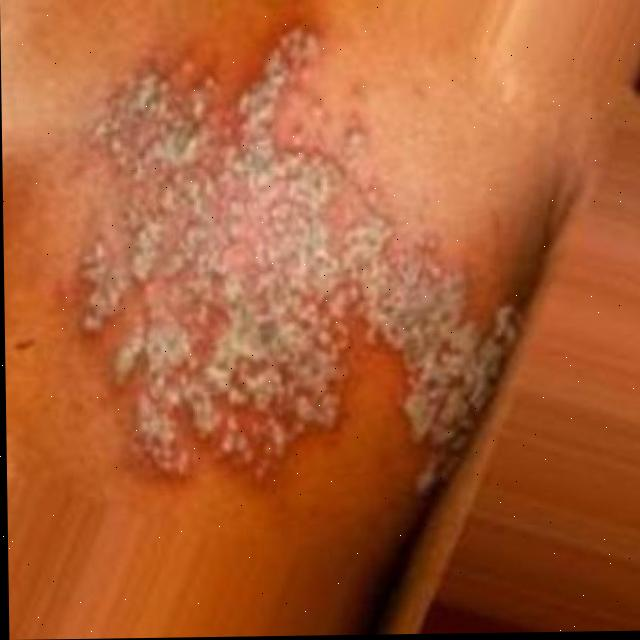Shingles: (70, 13, 523, 507)
